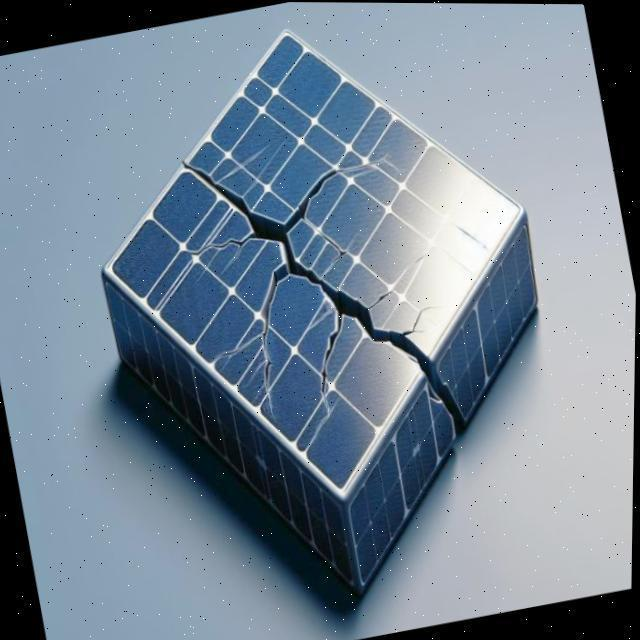Anomaly Solar Panel: (86, 30, 547, 493)
Structural Damage: (161, 104, 471, 457), (452, 219, 491, 249)
